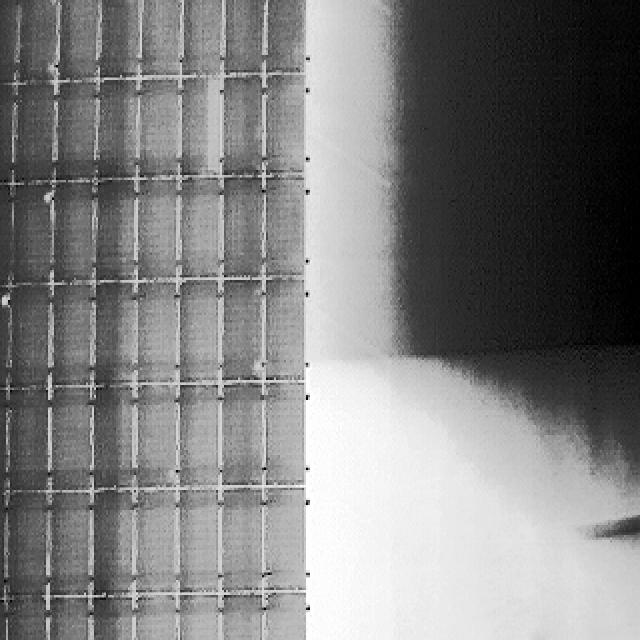PV-modules: (175, 175, 229, 276), (45, 386, 94, 492), (173, 493, 219, 599), (217, 486, 262, 594), (264, 489, 310, 594), (3, 495, 48, 602), (4, 386, 49, 491), (222, 79, 268, 181), (222, 174, 268, 276), (4, 282, 48, 388), (93, 493, 137, 598), (93, 385, 137, 490), (220, 384, 264, 489), (135, 492, 179, 596), (48, 494, 92, 598), (265, 384, 308, 490), (96, 84, 141, 184), (264, 76, 308, 178), (218, 278, 262, 380), (136, 179, 180, 281), (94, 284, 138, 386), (264, 280, 307, 383), (179, 282, 222, 385), (56, 84, 99, 186), (95, 179, 138, 281), (51, 286, 94, 388), (177, 80, 220, 182), (134, 385, 176, 489), (179, 385, 221, 489), (3, 0, 56, 82), (136, 283, 178, 386), (11, 86, 54, 186), (53, 183, 96, 283), (265, 179, 306, 282), (8, 182, 50, 282), (136, 82, 179, 178), (55, 0, 99, 78), (218, 0, 264, 73), (136, 0, 181, 74), (178, 1, 222, 76), (264, 0, 308, 72), (101, 1, 139, 80), (220, 590, 266, 640), (264, 592, 308, 640), (2, 595, 46, 640), (134, 597, 180, 640), (92, 597, 136, 640), (48, 595, 90, 640), (178, 595, 220, 640)
